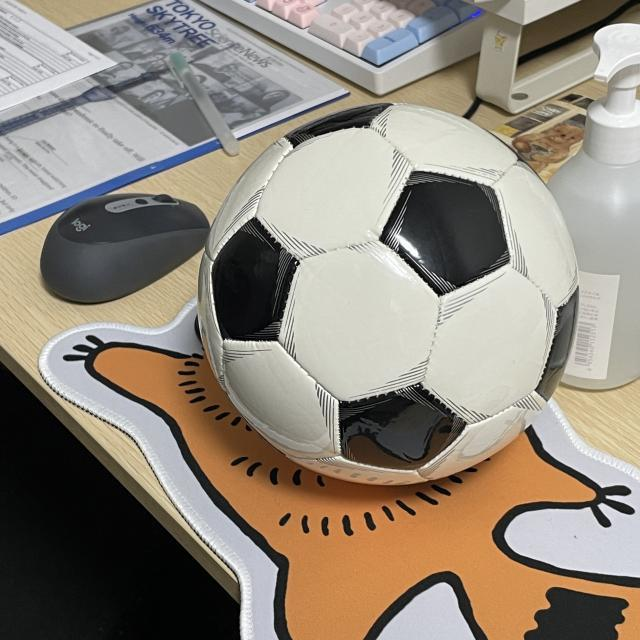ball: (196, 104, 578, 488)
